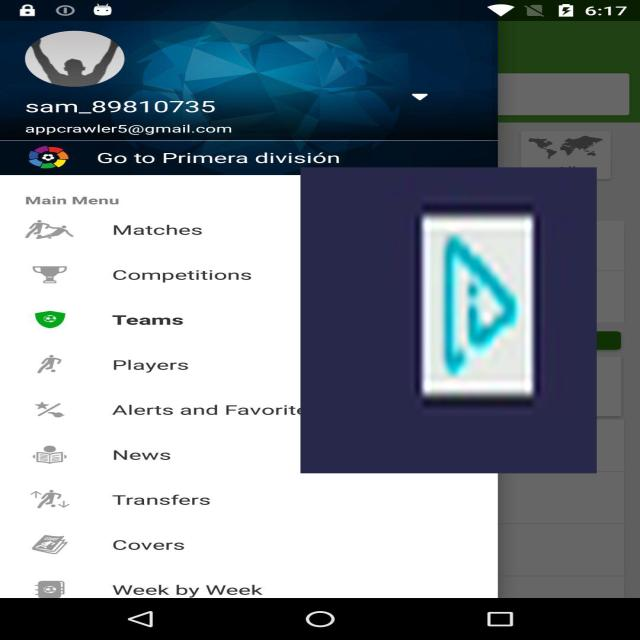sneaking: (300, 167, 597, 473)
